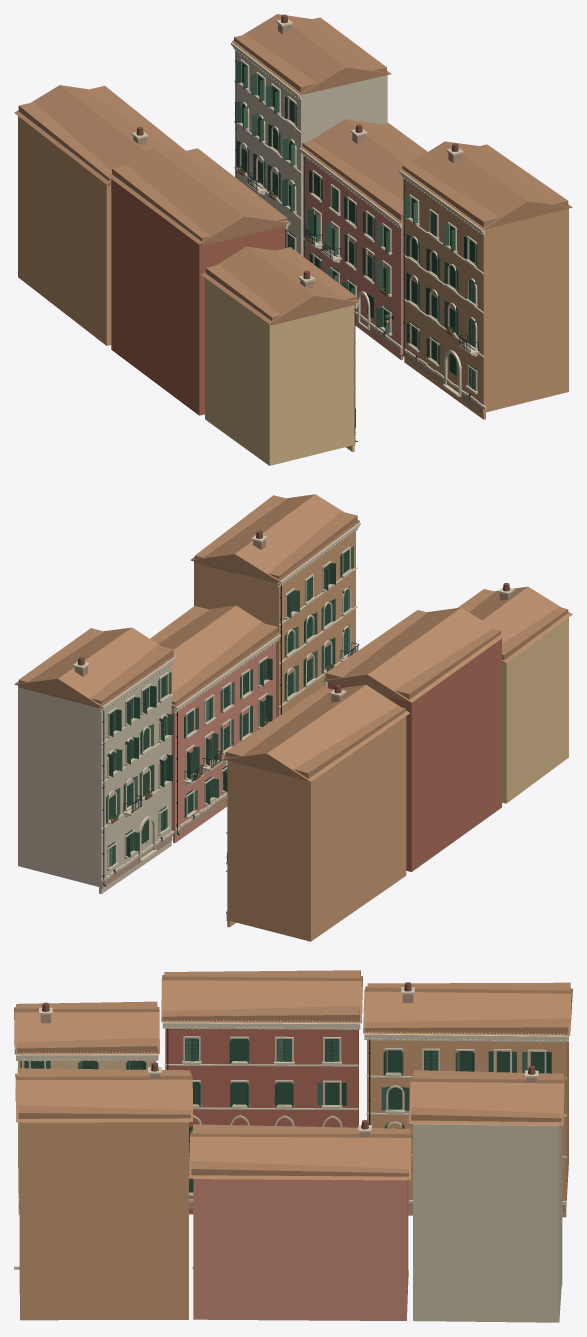
Rendered from canal-00.glb.
3 views of the same model, one above another, from view 1: azimuth 30°, elevation 25°; view 2: azimuth 150°, elevation 25°; view 3: azimuth 270°, elevation 25° (orthographic). The views are drawn at different scales.
Visible parts, largest first — view 1: Main elevations / kit:roof, Main elevations / kit:walls:0, Distant elevations / kit:walls:0, Main elevations / kit:walls:4, Main elevations / kit:walls:2, Distant elevations / kit:roof, Main elevations / kit:stone, Main elevations / kit:walls:3, Distant elevations / kit:walls:2, Main elevations / kit:green, Distant elevations / kit:greenDark, Main elevations / kit:walls:1 (+7 smaller); view 2: Main elevations / kit:walls:0, Main elevations / kit:roof, Main elevations / kit:walls:4, Main elevations / kit:walls:3, Distant elevations / kit:roof, Main elevations / kit:stone, Main elevations / kit:walls:2, Distant elevations / kit:walls:3, Distant elevations / kit:walls:0, Main elevations / kit:green, Main elevations / kit:walls:1, Main elevations / kit:greenDark (+6 smaller); view 3: Main elevations / kit:roof, Main elevations / kit:walls:0, Main elevations / kit:walls:1, Main elevations / kit:walls:3, Distant elevations / kit:roof, Main elevations / kit:stone, Main elevations / kit:walls:4, Distant elevations / kit:walls:4, Distant elevations / kit:walls:0, Distant elevations / kit:greenDark, Main elevations / kit:greenDark, Main elevations / kit:green (+3 smaller).
Part boxes in pixels (x1,y1,x2,y2): Main elevations / kit:roof: (14, 14, 572, 323); Main elevations / kit:walls:0: (18, 116, 568, 419); Distant elevations / kit:walls:0: (109, 185, 566, 412); Main elevations / kit:walls:4: (111, 179, 285, 415); Main elevations / kit:walls:2: (205, 278, 354, 465); Distant elevations / kit:roof: (18, 17, 568, 325); Main elevations / kit:stone: (131, 19, 486, 439); Main elevations / kit:walls:3: (236, 51, 387, 255); Distant elevations / kit:walls:2: (272, 306, 352, 465); Main elevations / kit:green: (236, 74, 477, 427); Distant elevations / kit:greenDark: (241, 62, 476, 375); Main elevations / kit:walls:1: (304, 156, 403, 360); Main elevations / kit:walls:0: (194, 546, 406, 941); Main elevations / kit:roof: (14, 494, 572, 781); Main elevations / kit:walls:4: (327, 638, 501, 871); Main elevations / kit:walls:3: (18, 679, 171, 894); Distant elevations / kit:roof: (18, 495, 568, 778); Main elevations / kit:stone: (73, 523, 514, 914); Main elevations / kit:walls:2: (504, 617, 568, 803); Distant elevations / kit:walls:3: (84, 665, 171, 886); Distant elevations / kit:walls:0: (210, 530, 355, 920); Main elevations / kit:green: (106, 546, 353, 866); Main elevations / kit:walls:1: (173, 647, 270, 842); Main elevations / kit:greenDark: (108, 554, 347, 864); Main elevations / kit:roof: (14, 975, 572, 1179); Main elevations / kit:walls:0: (20, 1042, 568, 1320); Main elevations / kit:walls:1: (193, 1178, 406, 1320); Main elevations / kit:walls:3: (413, 1124, 562, 1322); Distant elevations / kit:roof: (16, 970, 570, 1181); Main elevations / kit:stone: (14, 987, 568, 1269); Main elevations / kit:walls:4: (165, 1028, 358, 1214); Distant elevations / kit:walls:4: (189, 1029, 357, 1127); Distant elevations / kit:walls:0: (19, 1040, 566, 1294); Distant elevations / kit:greenDark: (30, 1038, 544, 1192); Main elevations / kit:greenDark: (24, 1038, 551, 1107); Main elevations / kit:green: (46, 1038, 527, 1128).
Bounding box in the file's own units: 29.23 × 19.83 × 42.38.
